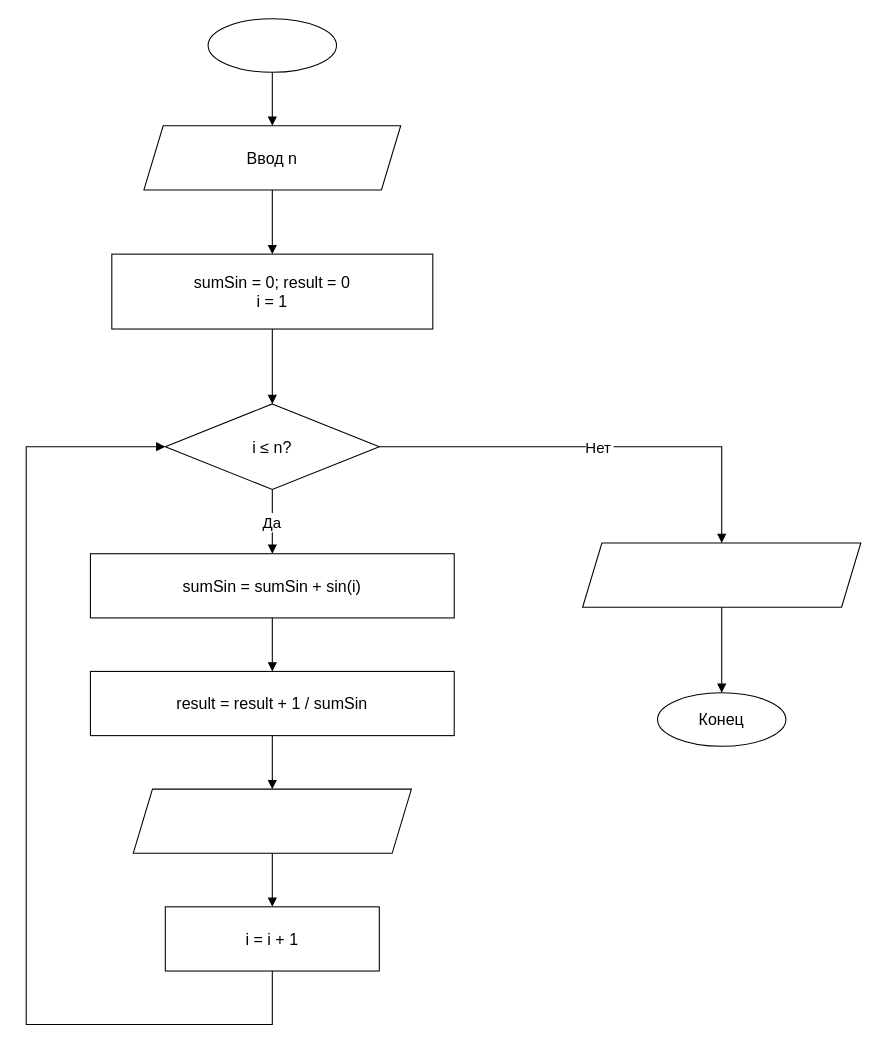
This 880x1052 diagram has some shape labels left out. The shapes that lost their labels are listed below. From the top down, each one's centre as x and y in pixels, then its label:
point 272,45: Начало
point 721,574: Вывод result
point 271,820: Вывод sumSin
